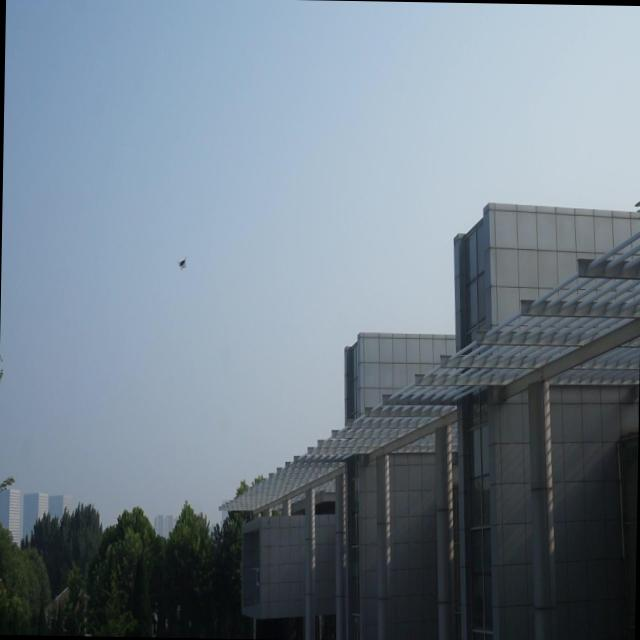drone: (176, 254, 187, 272)
